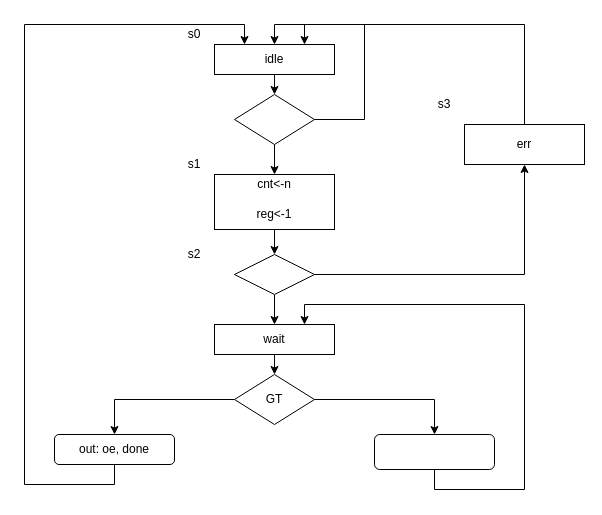
Image size: 602x515. Some labels were removed from this diagram. Here are the shapes that lost their labels. From the top down, the centre of each, then its label:
point (274, 119): go
point (274, 274): GT12
point (434, 452): reg<-reg*cnt cnt<-cnt-1
